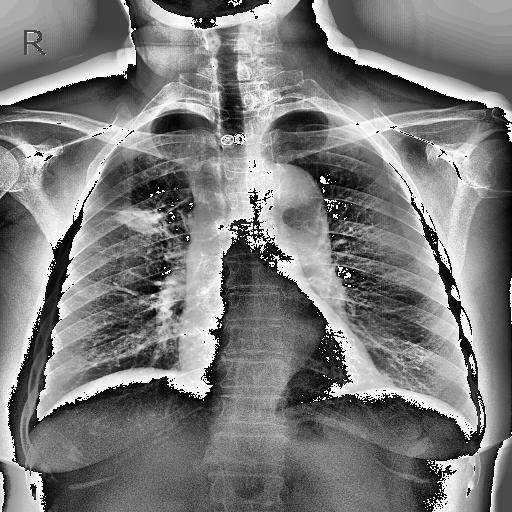0- Aortic enlargement: (244, 162, 327, 244), (256, 162, 328, 234), (257, 164, 326, 212)
13- Pulmonary fibrosis: (89, 206, 166, 235), (103, 206, 170, 235), (166, 195, 192, 215), (91, 208, 147, 214)
7- Lung Opacity: (114, 210, 160, 236)
